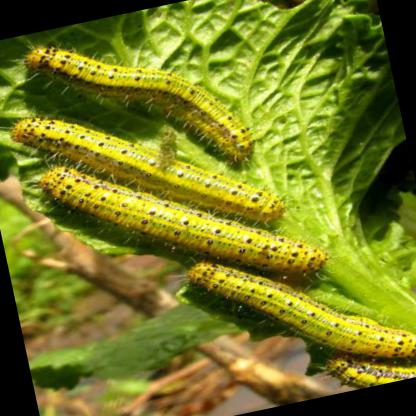pieris: (35, 164, 336, 276), (5, 114, 291, 222), (15, 45, 256, 168), (182, 267, 416, 362)
